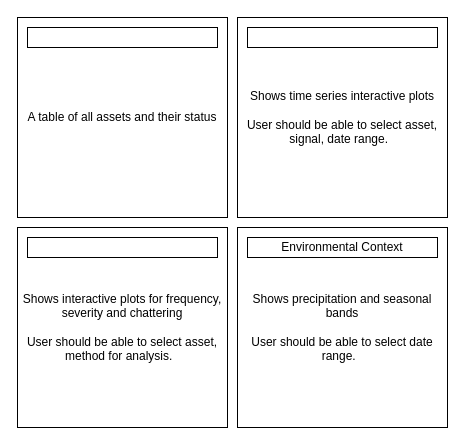
Image size: 465x445. Some labels were removed from this diagram. The shapes that lost their labels are listed below. From the top down, each one's centre as x and y in pixels, then its label:
At point 122,37: "Asset Overview".
At point 342,37: "Historian Trends".
At point 122,247: "Alarm Analysis".
